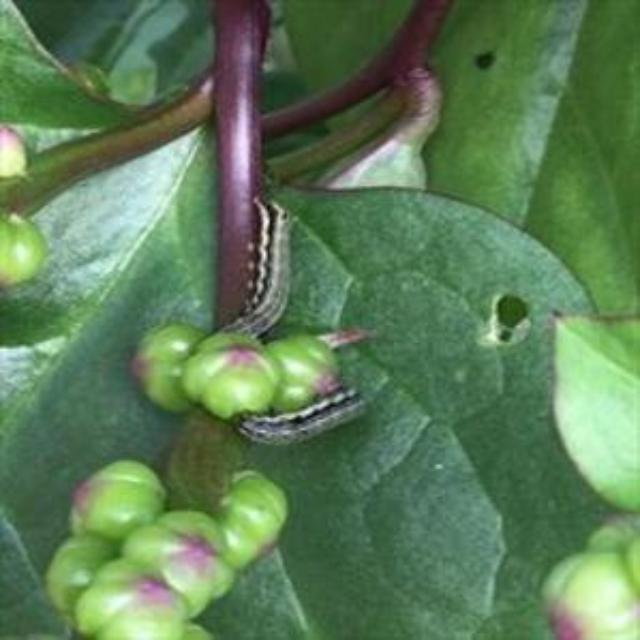Tobacco cutworm: (219, 342, 445, 506), (171, 154, 341, 368)
